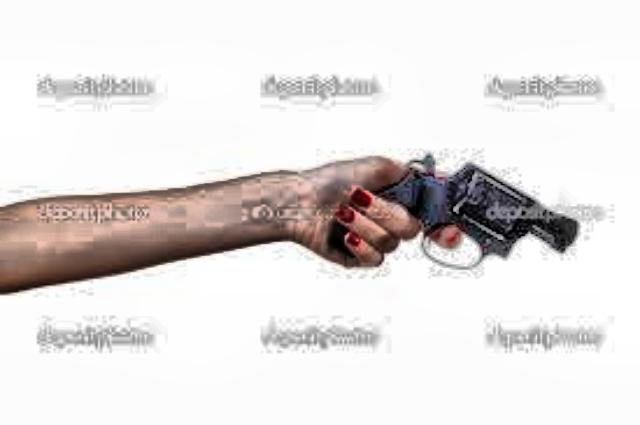pistol: (326, 146, 576, 270)
